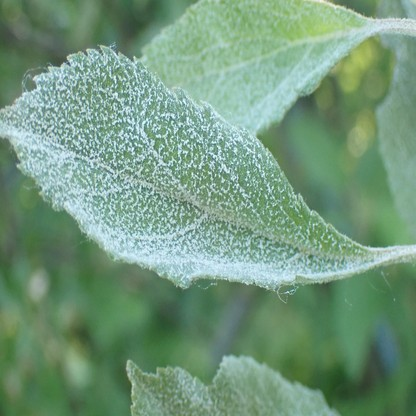powder: (2, 45, 371, 288), (137, 2, 366, 132), (125, 353, 334, 416)
